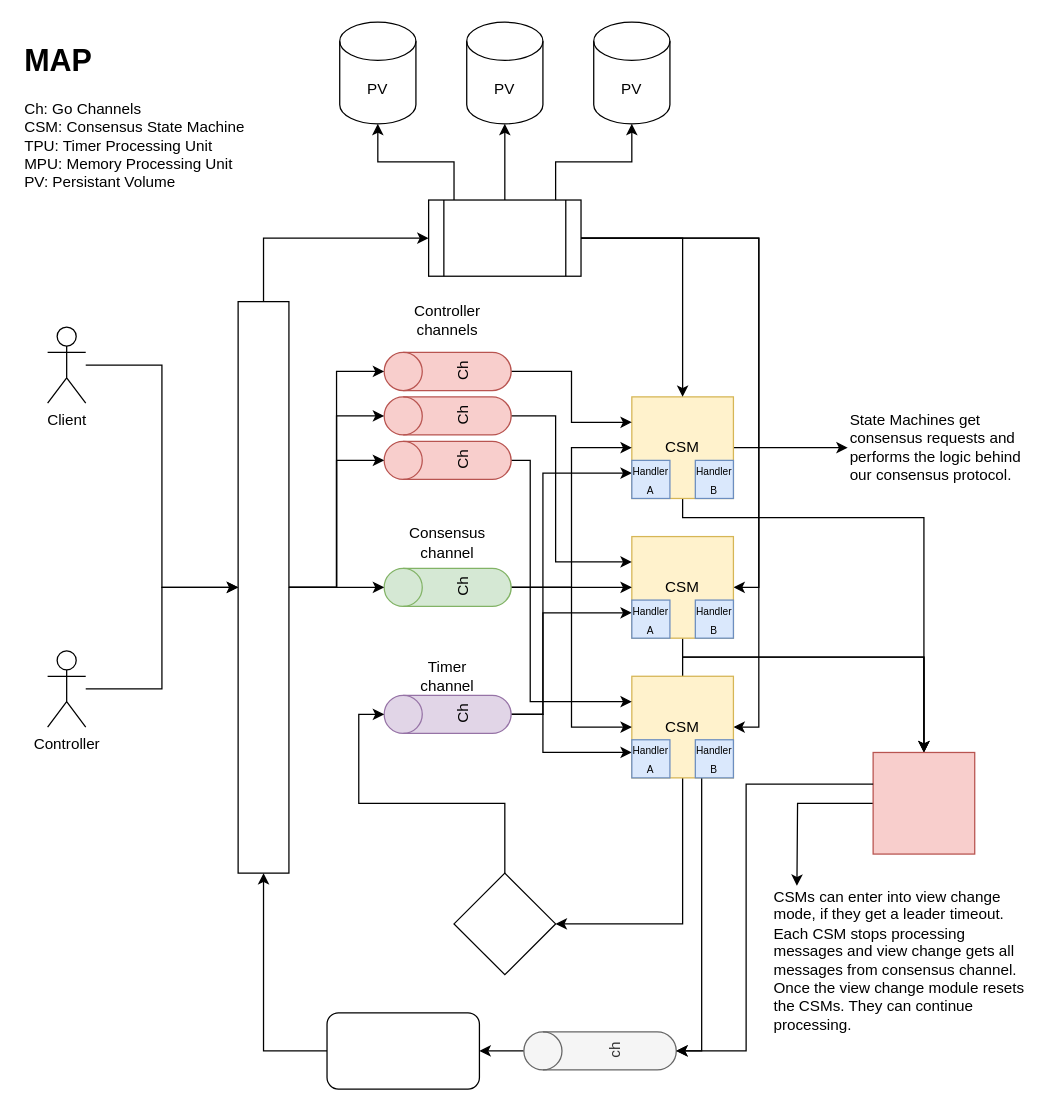
The diagram is 1059 pixels wide and 1111 high, and some of its shapes have lost their labels. The shapes that lost their labels are listed below. From the top down, each one's centre as x and y in pixels, then its label:
point 504,237: MPU
point 263,586: gRPC
point 923,802: View Change
point 504,923: TPU
point 402,1050: Communications
